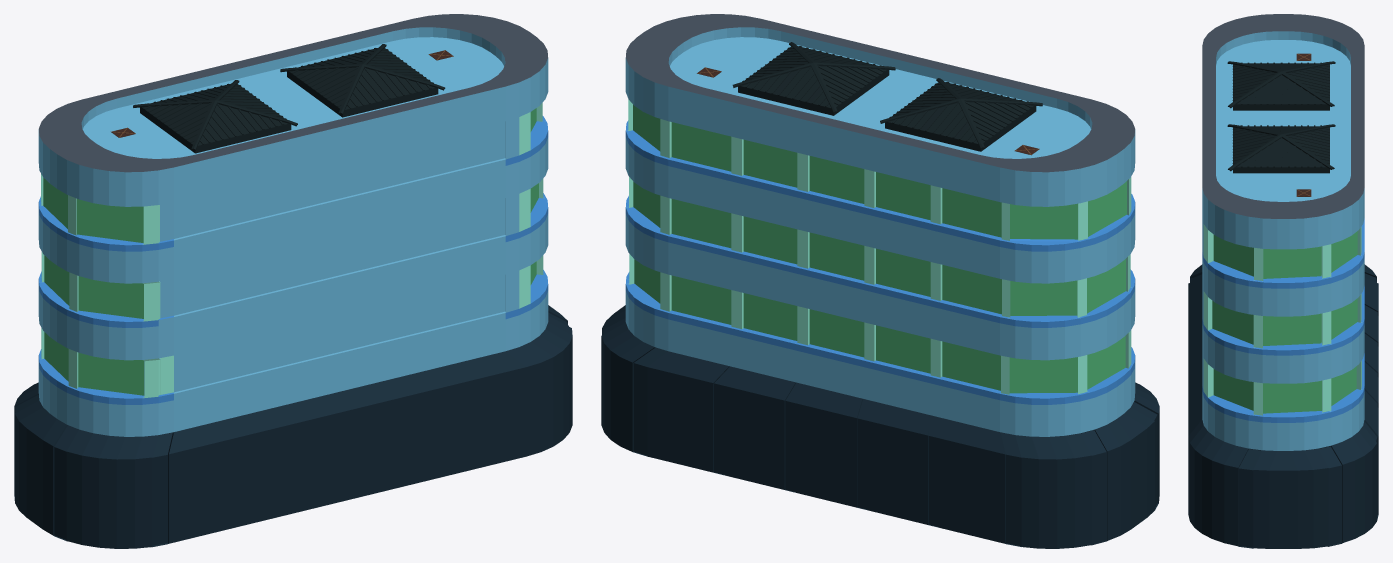
The model's file is Building.fbx.
The picture shows the model from 3 angles, left to right: view 1: azimuth 30°, elevation 25°; view 2: azimuth 150°, elevation 25°; view 3: azimuth 270°, elevation 25°; orthographic projection. The views are drawn at different scales.
Visible parts, largest first — view 1: Cube.002; view 2: Cube.002; view 3: Cube.002.
Boxes of the visible parts, x1=… form: Cube.002: x1=14, y1=14, x2=572, y2=548; Cube.002: x1=601, y1=14, x2=1159, y2=548; Cube.002: x1=1188, y1=14, x2=1378, y2=548.
Size of the model in its own units: 1079 by 761 by 392.
